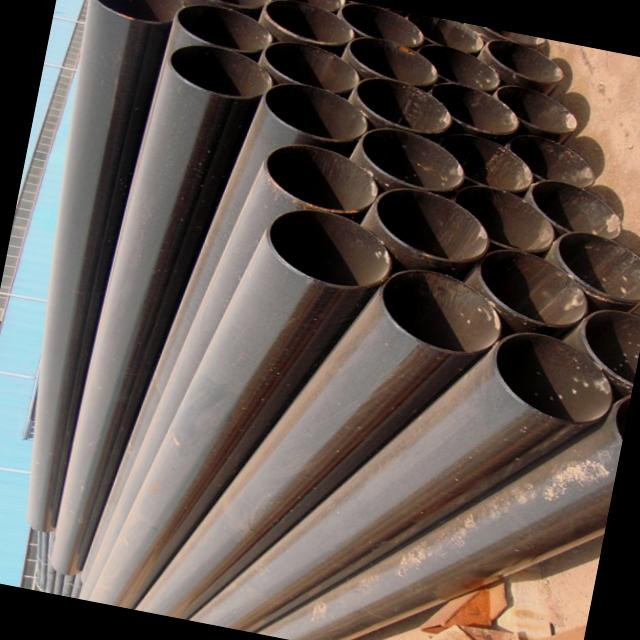gas: (136, 269, 501, 620), (188, 332, 613, 633), (89, 210, 392, 610), (52, 45, 273, 573), (102, 144, 378, 564), (255, 394, 632, 640), (27, 0, 181, 530), (164, 83, 368, 353)
